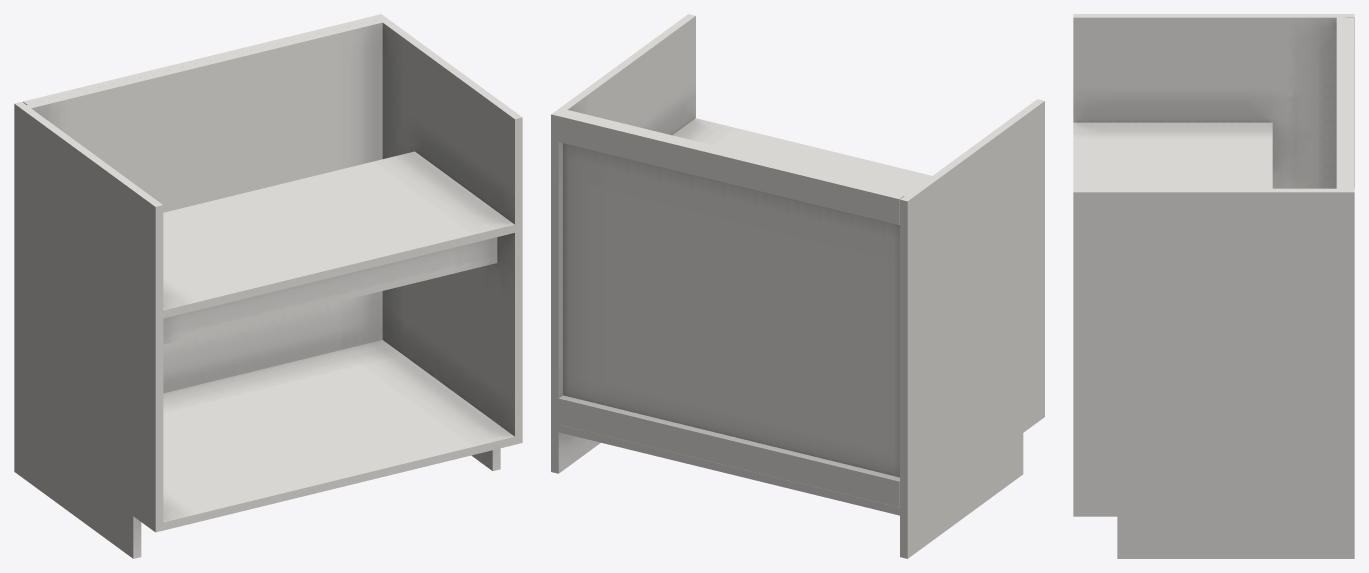
File: farm-sink-base-doors-off.glb
3 renders of one model, left to right at view 1: azimuth 30°, elevation 25°; view 2: azimuth 150°, elevation 25°; view 3: azimuth 270°, elevation 25°, orthographic. The views are drawn at different scales.
Visible parts, largest first — view 1: part_0; view 2: part_0; view 3: part_0.
Boxes of the visible parts, x1,y1,x2,y2 form: part_0: [14, 14, 522, 558]; part_0: [551, 14, 1044, 558]; part_0: [1073, 14, 1354, 558].
Bounding box in the file's own units: 0.9144 × 0.8763 × 0.6096.
Materials: 1 (1 with a texture image).
